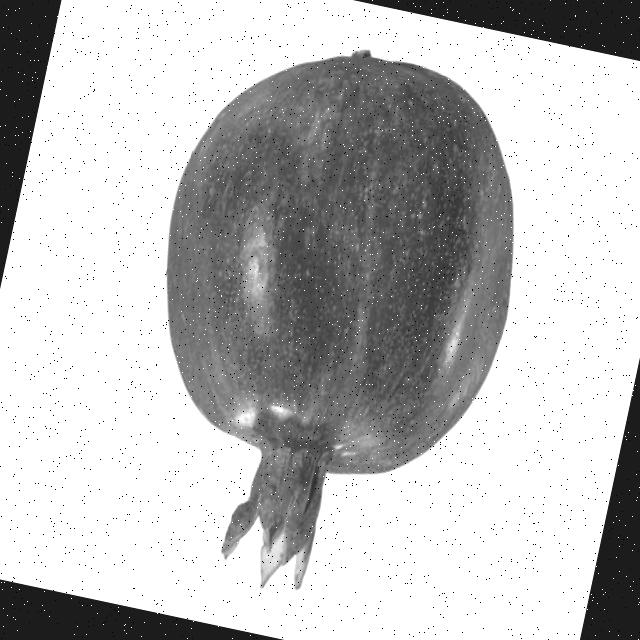Ripe: (91, 16, 560, 638)
